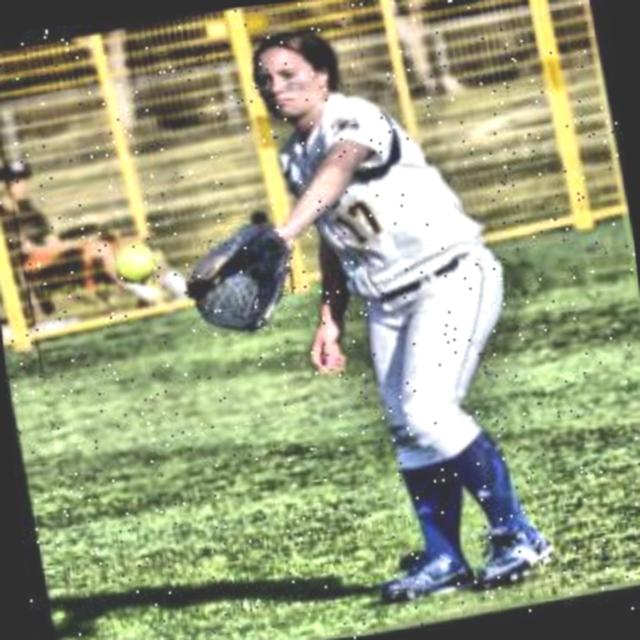tennis-ball: (111, 234, 168, 293)
